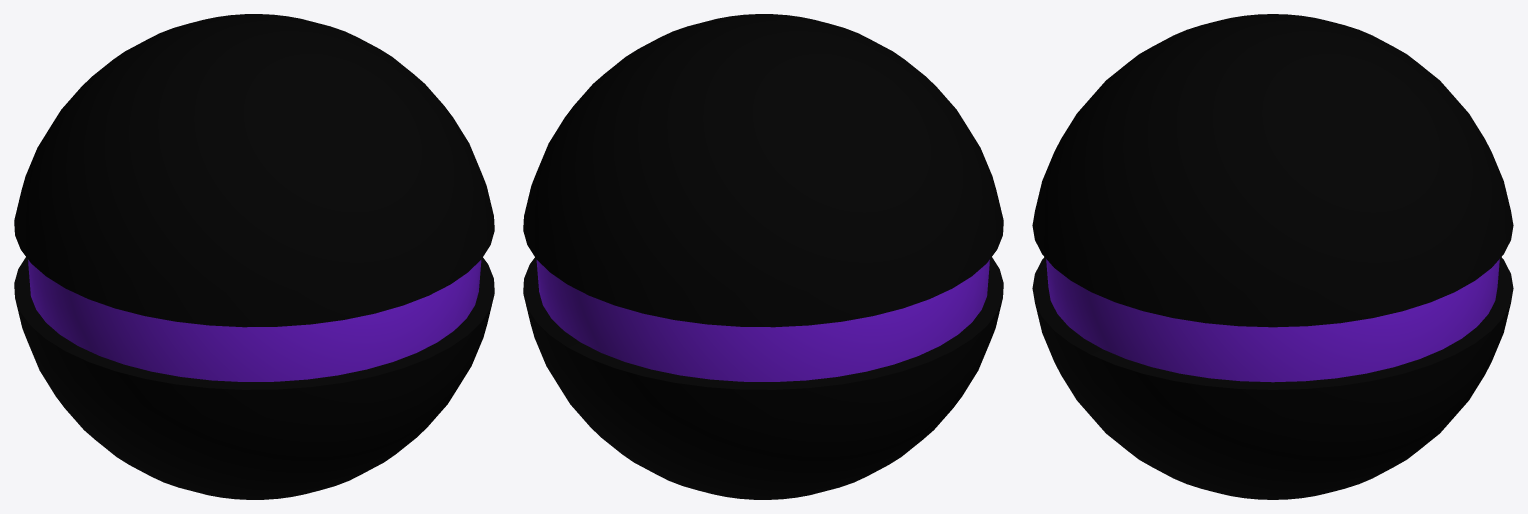
Rendered from ball2.FBX.
The picture shows the model from 3 angles, left to right: view 1: azimuth 30°, elevation 25°; view 2: azimuth 150°, elevation 25°; view 3: azimuth 270°, elevation 25°; orthographic projection.
Visible parts, largest first — view 1: Sphere001; view 2: Sphere001; view 3: Sphere001.
Part boxes in pixels (x1,y1,x2,y2): Sphere001: (14,14,494,499); Sphere001: (523,14,1003,499); Sphere001: (1032,14,1513,499).
Bounding box in the file's own units: 9.9 × 10 × 9.9.
